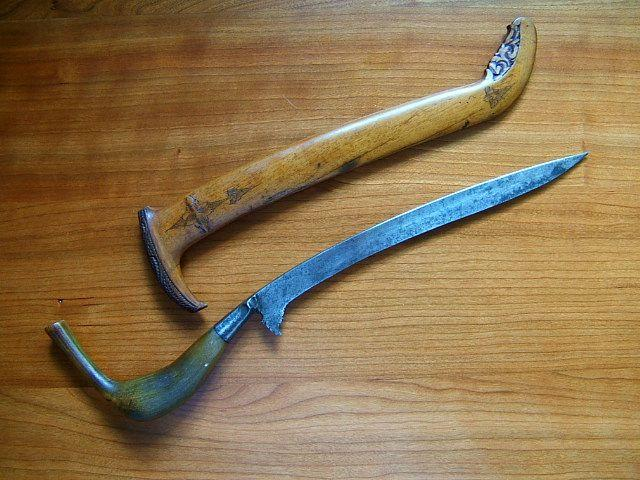espada: (29, 146, 640, 443), (113, 2, 623, 307)
